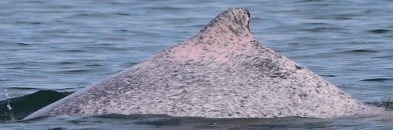fin: (18, 3, 388, 122)
